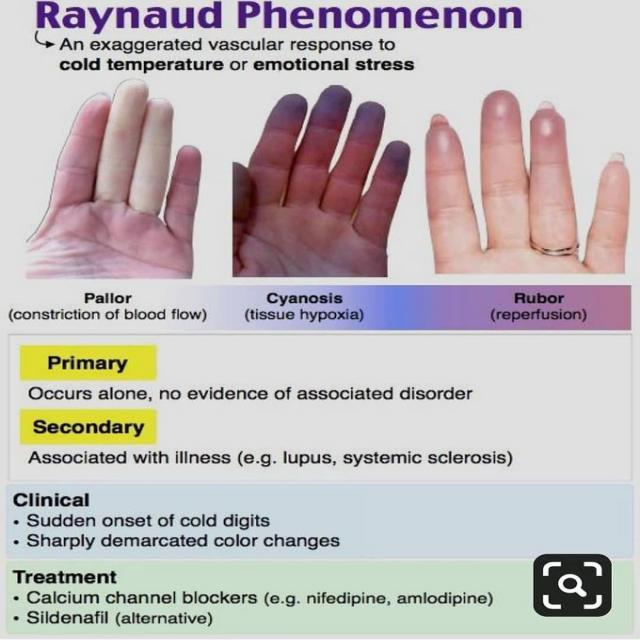raynauds: (415, 68, 593, 172), (245, 77, 416, 184), (90, 75, 189, 216)
